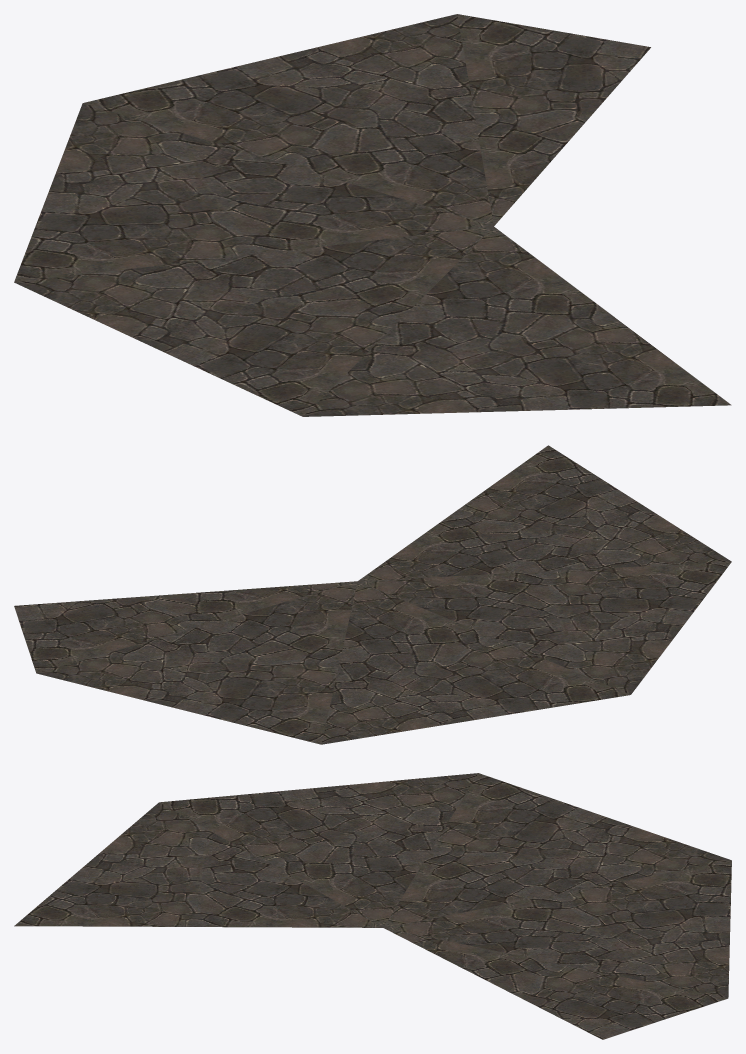
Rendered from volcano_02_floor_04.FBX.
The picture shows the model from 3 angles, top to bottom: view 1: azimuth 30°, elevation 25°; view 2: azimuth 150°, elevation 25°; view 3: azimuth 270°, elevation 25°; orthographic projection. The views are drawn at different scales.
Visible parts, largest first — view 1: volcano_02_floor_04; view 2: volcano_02_floor_04; view 3: volcano_02_floor_04.
Part boxes in pixels (box(x1,y1,x2,y2)): volcano_02_floor_04: box(14, 14, 731, 416); volcano_02_floor_04: box(14, 445, 731, 744); volcano_02_floor_04: box(14, 773, 731, 1039).
Size of the model in its own units: 15.67 by 0 by 17.81.
Materials: 1 (1 with a texture image).
